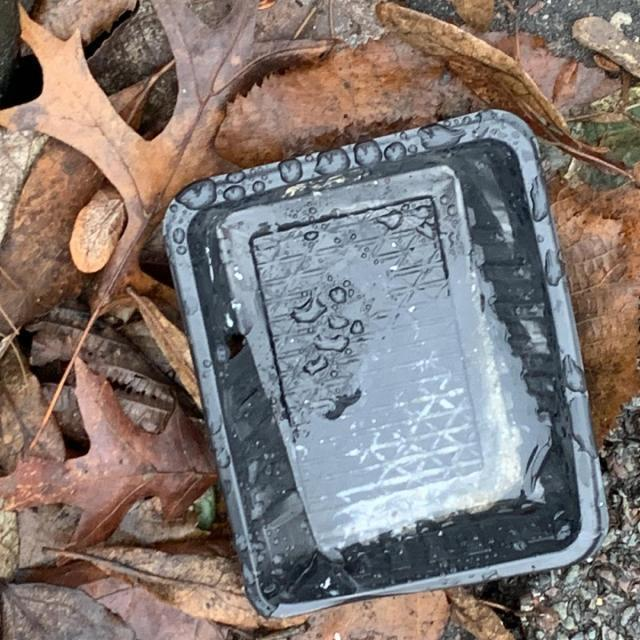Plastic: (155, 100, 612, 622)
